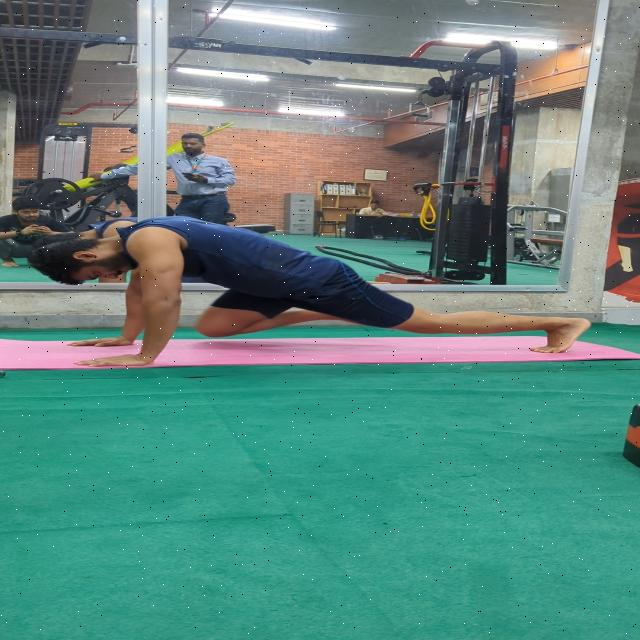Normal_MountainClimbers: (14, 197, 606, 376)
